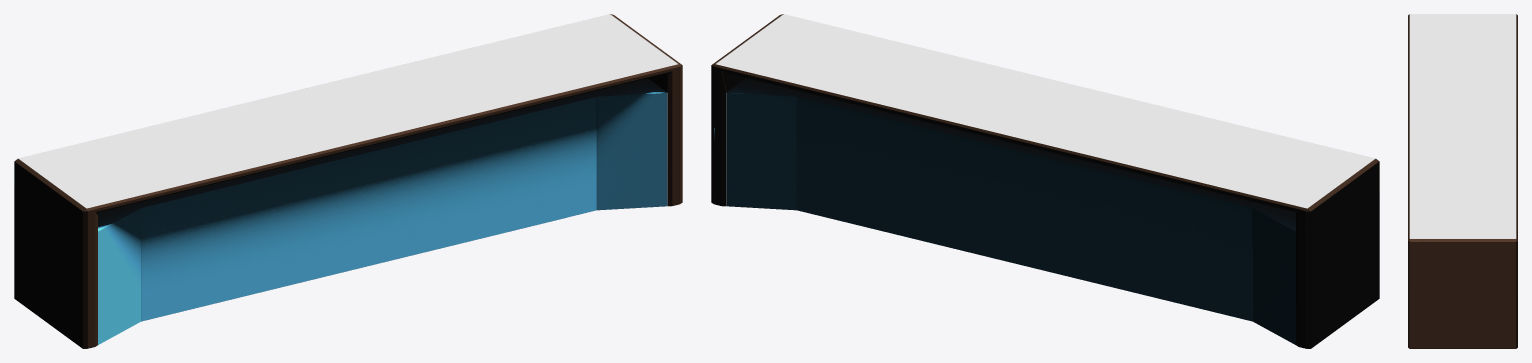
The model's file is Table.dae.
3 views of the same model, side by side, from view 1: azimuth 30°, elevation 25°; view 2: azimuth 150°, elevation 25°; view 3: azimuth 270°, elevation 25° (orthographic). The views are drawn at different scales.
Parts seen in each view (by area): view 1: Table; view 2: Table; view 3: Table.
Boxes of the visible parts, x1,y1,x2,y2 form: Table: (14,14,682,348); Table: (711,14,1379,348); Table: (1408,14,1517,348).
Bounding box in the file's own units: 4.14 × 0.8442 × 0.921.
Materials: 1 (1 with a texture image).
